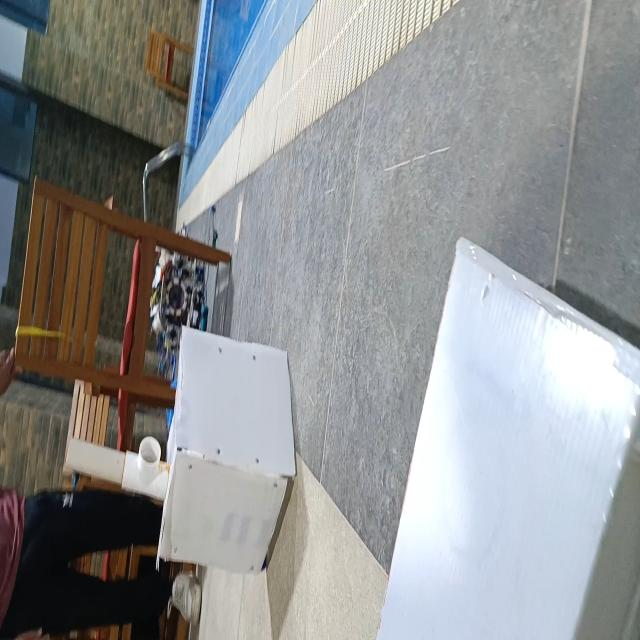Cube: (156, 324, 296, 574)
Cuboid: (375, 235, 639, 638)
